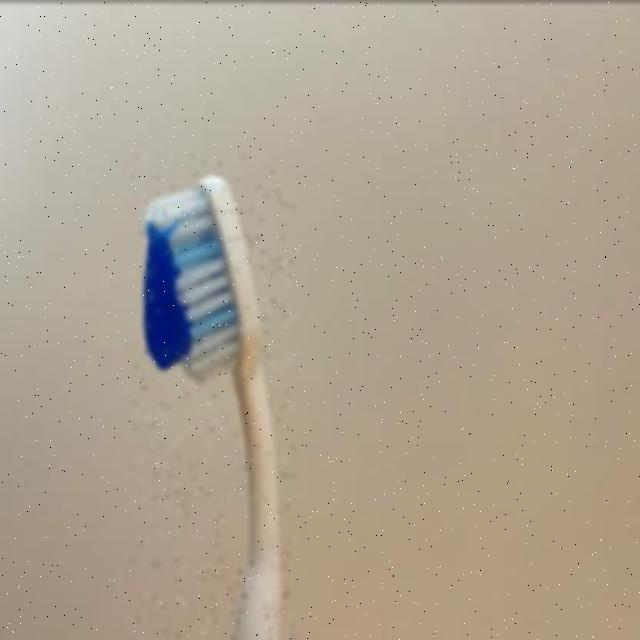toothbrush: (132, 156, 294, 640)
